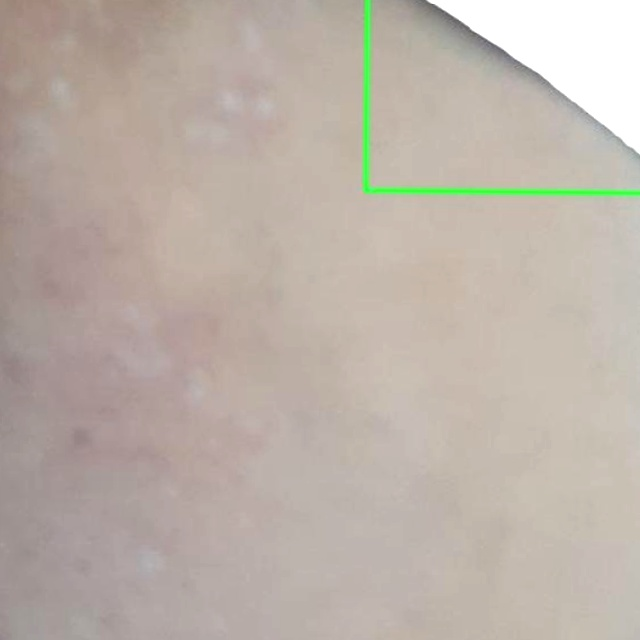Tinea Corporis: (365, 0, 639, 194)
